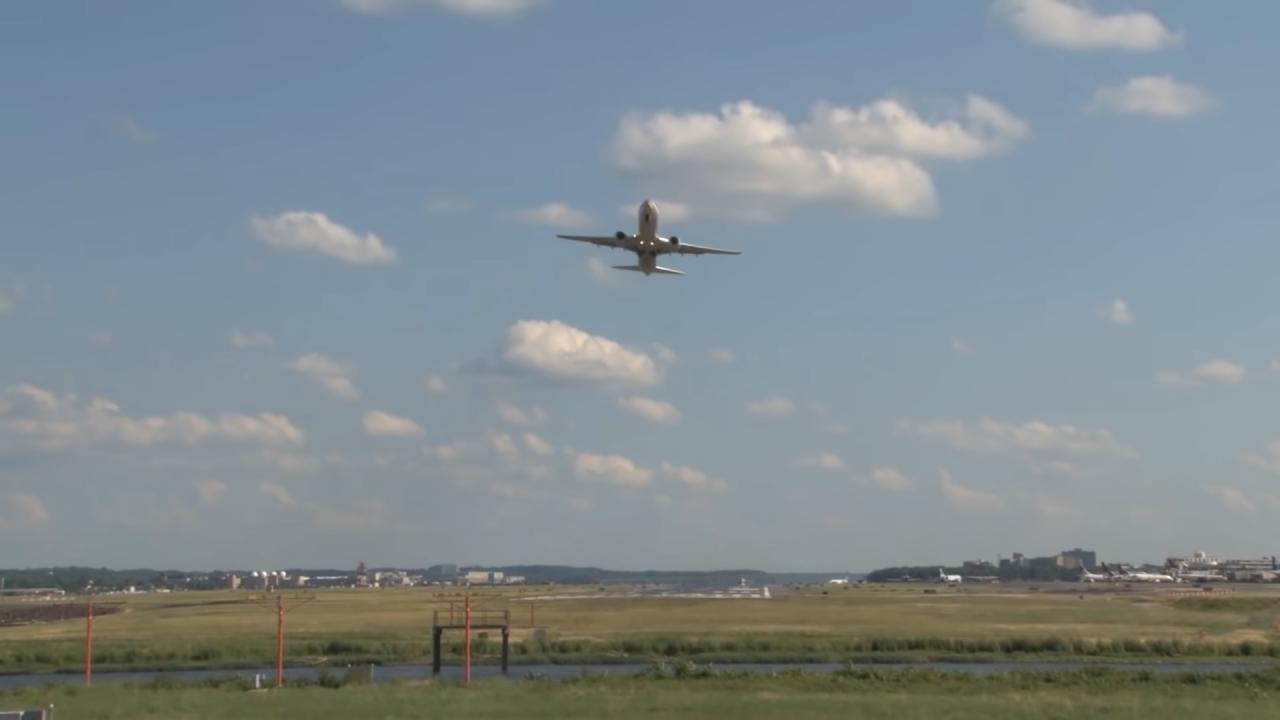Airplane: (547, 189, 748, 288)
